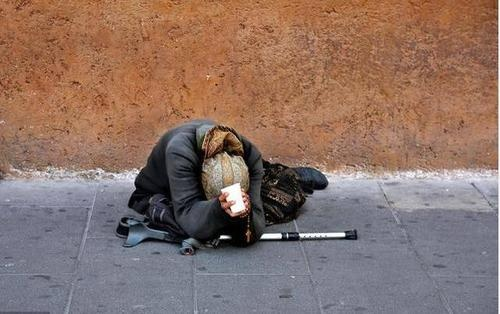falling: (108, 113, 336, 256)
